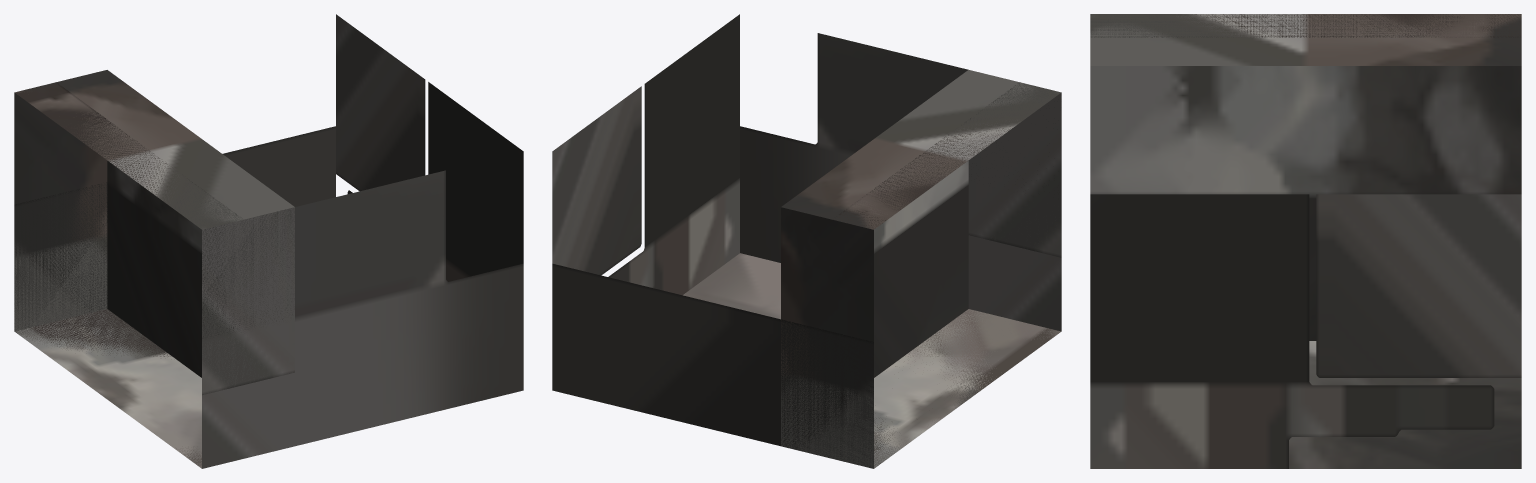
Rendered from section-3.obj.
The picture shows the model from 3 angles, left to right: view 1: azimuth 30°, elevation 25°; view 2: azimuth 150°, elevation 25°; view 3: azimuth 270°, elevation 25°; orthographic projection. The views are drawn at different scales.
Bounding box in the file's own units: 0.963 × 0.6846 × 0.9741.
